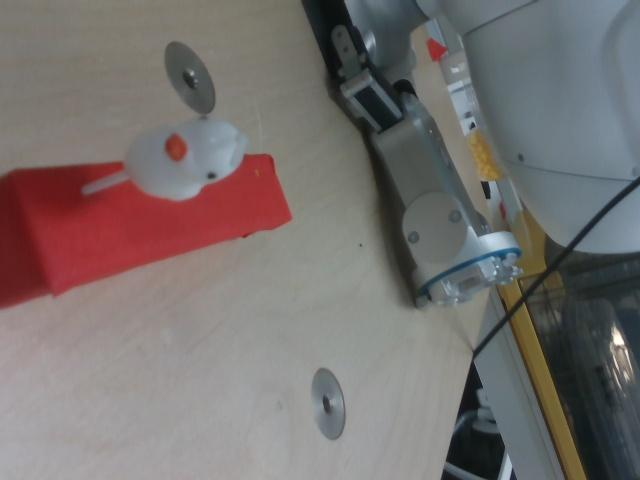y_duck: (124, 120, 241, 200)
